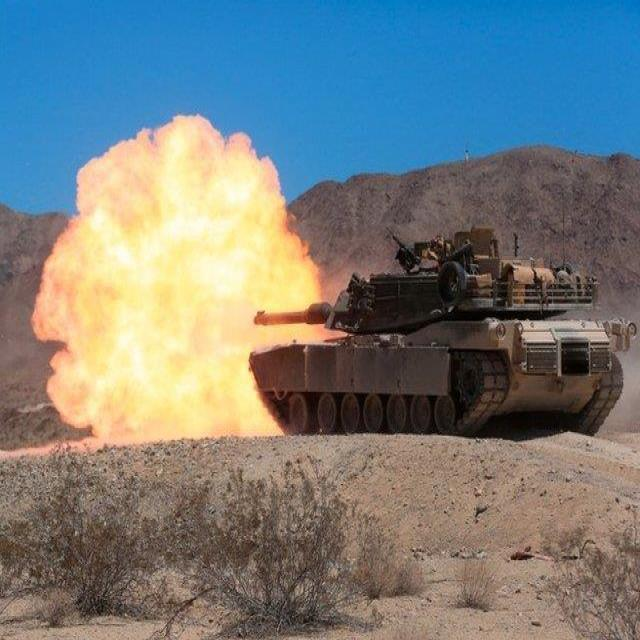MIL_MBT: (242, 223, 572, 439)
